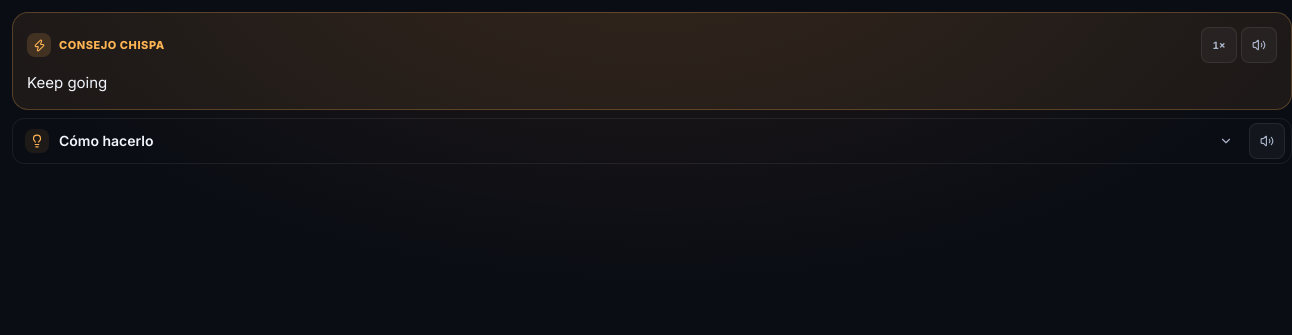
ExerciseExplainer › hides the tip card when howTo is expanded (evita duplicar contenido)
Check: the text "Consejo CHISPA" is shown, box [59, 37, 165, 53]
What coordinates should you click on to do the following:
click the button "Cómo hacerlo"
I would click on:
 (106, 141)
Its box is [13, 119, 1245, 163].
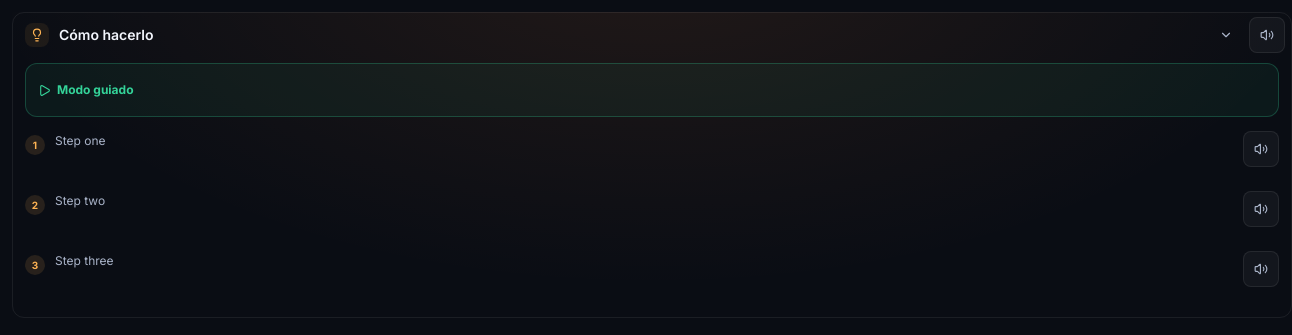
Check: the text "Consejo CHISPA" is gone
